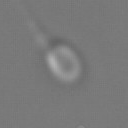normal: (9, 1, 50, 46)
